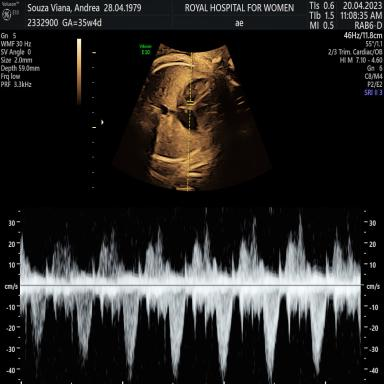Ultrasound-Waves: (26, 206, 359, 384)
